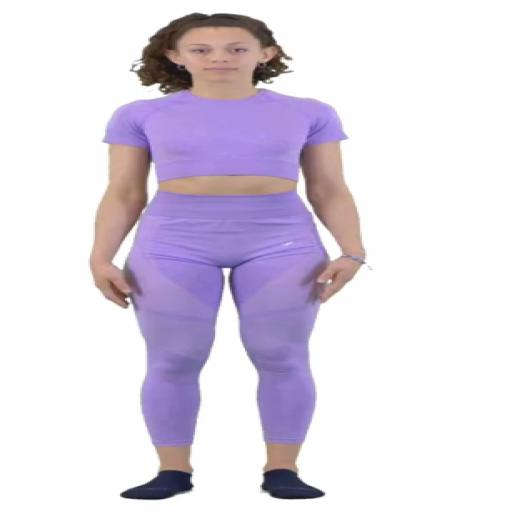Normal_Lunges: (7, 3, 504, 510)
Normal_SquatsWithBarbell: (58, 1, 417, 512)
